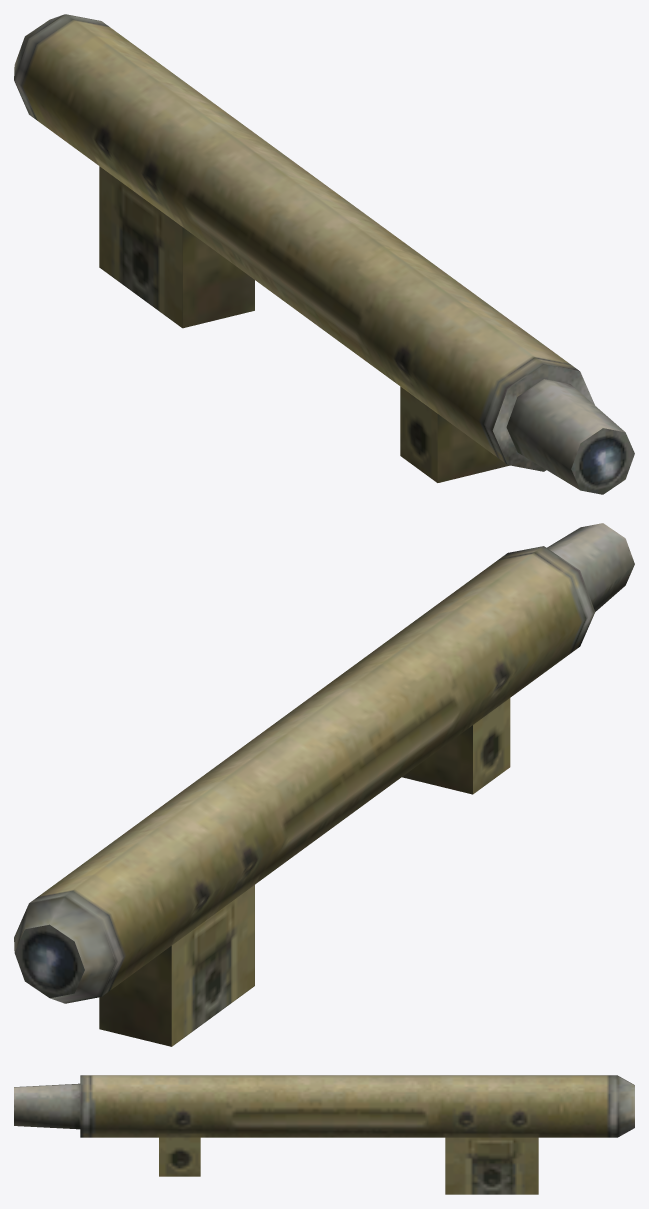
File: wp_scope_ld1_l0.fbx
3 views of the same model, one above another, from view 1: azimuth 30°, elevation 25°; view 2: azimuth 150°, elevation 25°; view 3: azimuth 270°, elevation 25° (orthographic). The views are drawn at different scales.
Visible parts, largest first — view 1: mesh_node; view 2: mesh_node; view 3: mesh_node.
Part boxes in pixels (x1,y1,x2,y2): mesh_node: (14,14,634,494); mesh_node: (14,523,634,1046); mesh_node: (14,1075,634,1194).
Size of the model in its own units: 0.034 by 0.0611 by 0.3174.
Materials: 1 (1 with a texture image).
